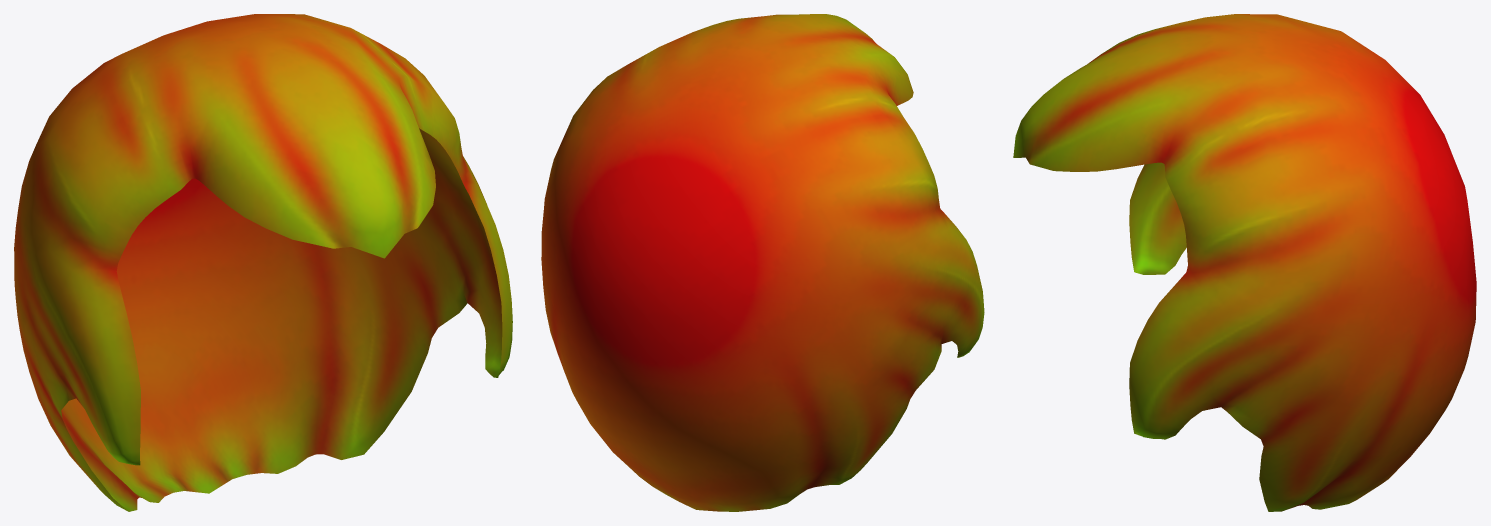
File: HairBack_Balding.obj
3 renders of one model, left to right at view 1: azimuth 30°, elevation 25°; view 2: azimuth 150°, elevation 25°; view 3: azimuth 270°, elevation 25°, orthographic. The views are drawn at different scales.
Parts seen in each view (by area): view 1: HairBack_Balding_0; view 2: HairBack_Balding_0; view 3: HairBack_Balding_0.
Boxes of the visible parts, box(x1,y1,x2,y2) form: HairBack_Balding_0: box(14, 14, 512, 511); HairBack_Balding_0: box(541, 14, 984, 511); HairBack_Balding_0: box(1013, 14, 1476, 511).
Bounding box in the file's own units: 0.197 × 0.2171 × 0.2.
1 material, 1 textured.
